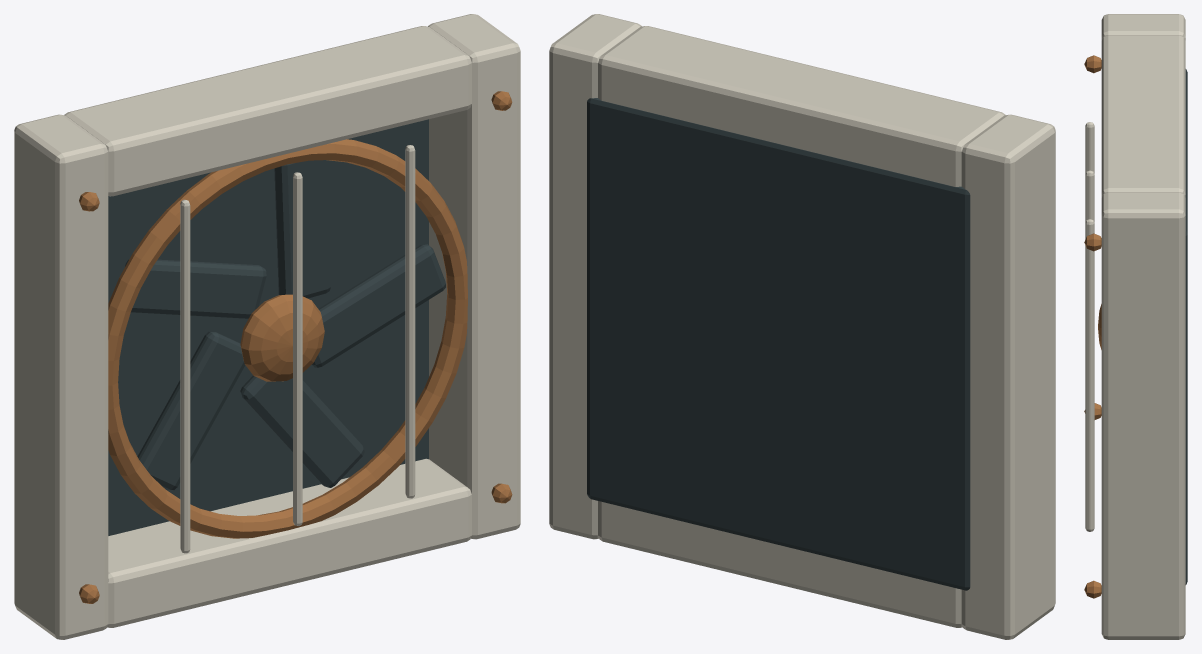
Rendered from colony-vent.glb.
3 renders of one model, left to right at view 1: azimuth 30°, elevation 25°; view 2: azimuth 150°, elevation 25°; view 3: azimuth 270°, elevation 25°, orthographic. The views are drawn at different scales.
Visible parts, largest first — view 1: Recess, Housing, Rotor, Housing.001, Housing.002, Housing.003, CopperRim, Guard, Guard.002, Guard.001; view 2: Recess, Housing, Housing.002, Housing.001, Housing.003; view 3: Housing.001, Housing.002, Guard.002, Housing, Recess, Guard.001, Guard, Fastener.003, Fastener.001, Fastener.002.
Part boxes in pixels (<box>): Recess: <box>108,119,428,535</box>; Housing: <box>14,114,108,639</box>; Rotor: <box>125,160,445,490</box>; Housing.001: <box>428,14,520,539</box>; Housing.002: <box>64,26,471,196</box>; Housing.003: <box>107,458,471,627</box>; CopperRim: <box>108,139,467,538</box>; Guard: <box>180,199,190,553</box>; Guard.002: <box>405,145,415,498</box>; Guard.001: <box>293,172,302,525</box>; Recess: <box>587,98,970,590</box>; Housing: <box>961,114,1055,639</box>; Housing.002: <box>598,26,1005,186</box>; Housing.001: <box>549,14,641,539</box>; Housing.003: <box>598,501,962,627</box>; Housing.001: <box>1101,192,1185,639</box>; Housing.002: <box>1101,35,1185,197</box>; Guard.002: <box>1085,219,1094,531</box>; Housing: <box>1101,14,1185,40</box>; Recess: <box>1185,69,1187,584</box>; Guard.001: <box>1085,170,1094,222</box>; Guard: <box>1085,122,1094,173</box>; Fastener.003: <box>1084,233,1101,251</box>; Fastener.001: <box>1084,55,1101,73</box>; Fastener.002: <box>1084,580,1101,598</box>.
Size of the model in its own units: 1.24 by 1.24 by 0.27.
